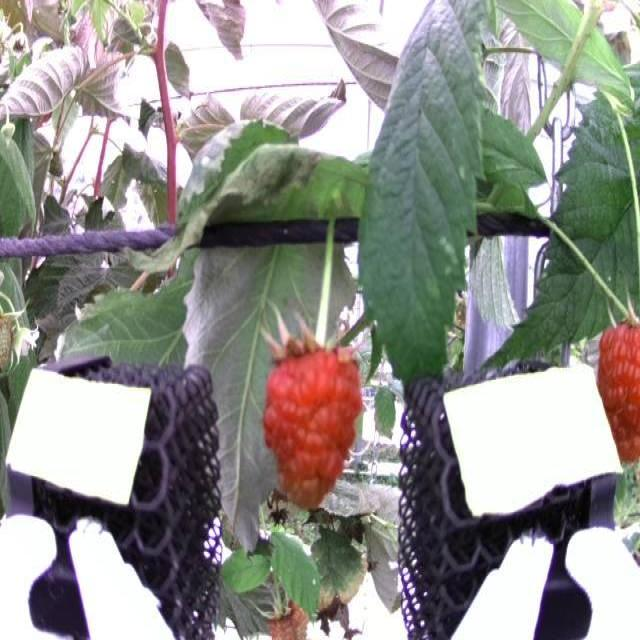Riped berries: (260, 320, 362, 504), (590, 306, 640, 458)
